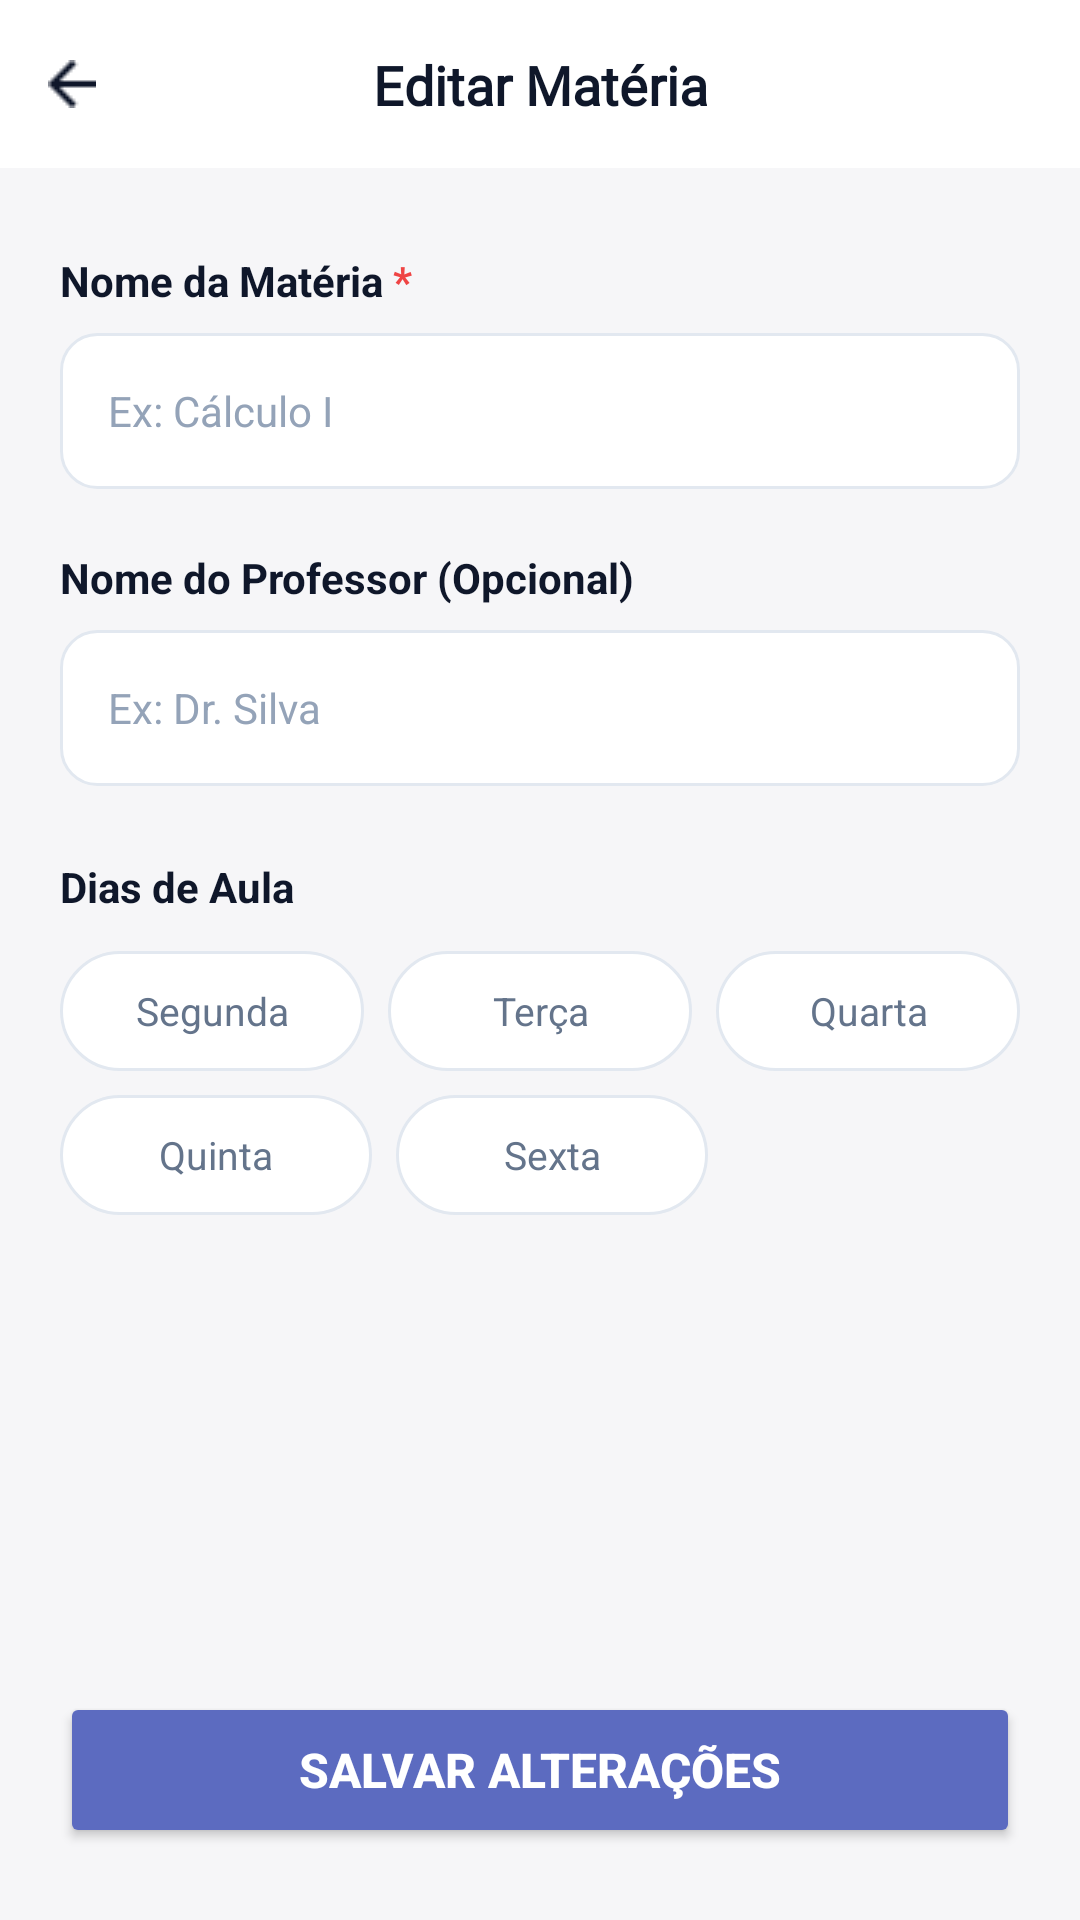

Icons on this 1080px x 1920px Android screen, each with the point to tap as [x,y]:
Voltar: [72,84]
